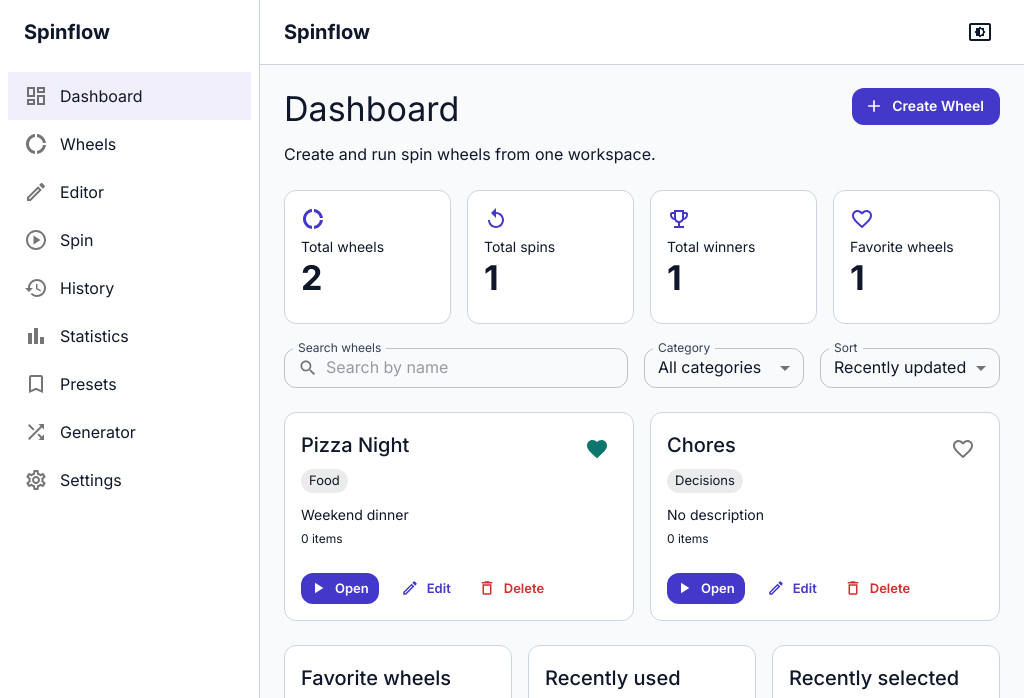
Test case: DashboardScreen › opens a wheel on the spin page
Click the button with aria-label "Open Pizza Night" at (340, 588), box [301, 573, 379, 604]
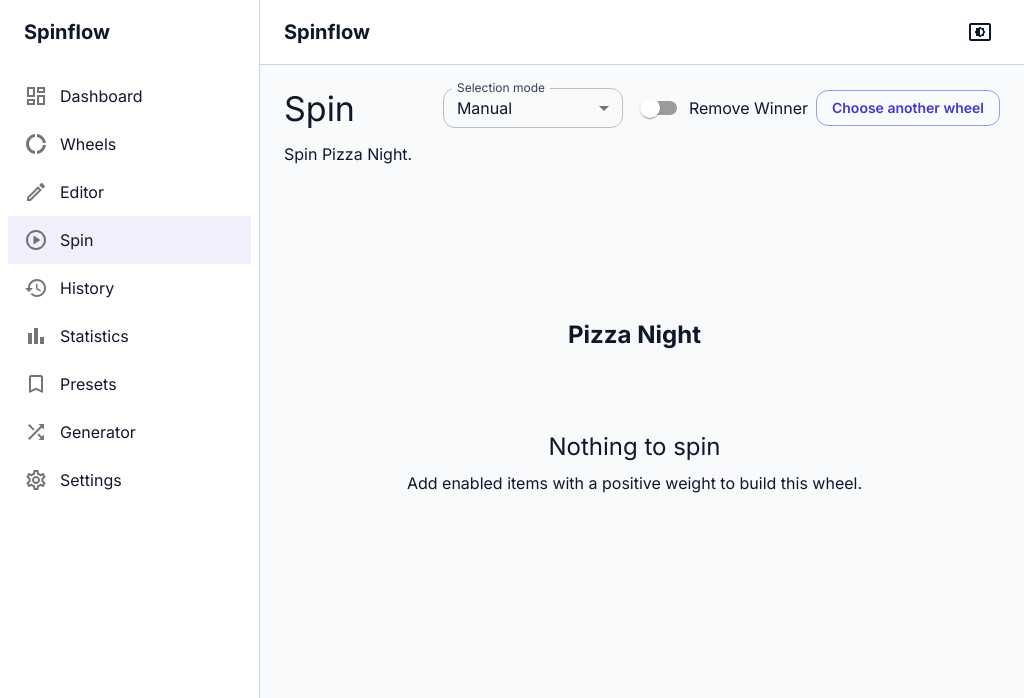
Now the heading "Spin" is shown, box [284, 88, 355, 129]
